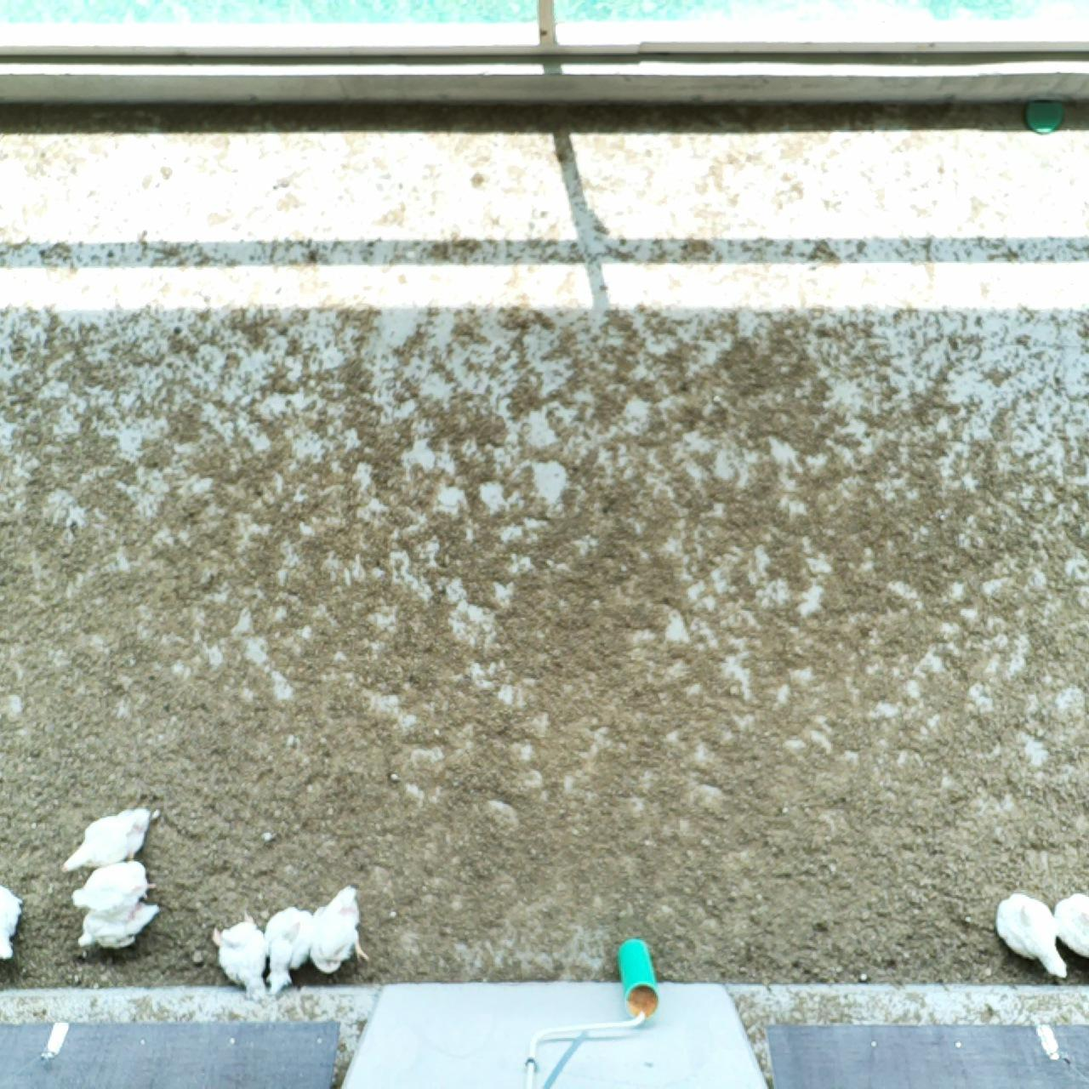chicken: (993, 890, 1071, 982), (60, 805, 157, 878), (210, 910, 271, 1003), (261, 904, 316, 999), (70, 857, 156, 917), (313, 883, 371, 967), (75, 899, 162, 952), (1052, 889, 1089, 959), (0, 882, 26, 962)
